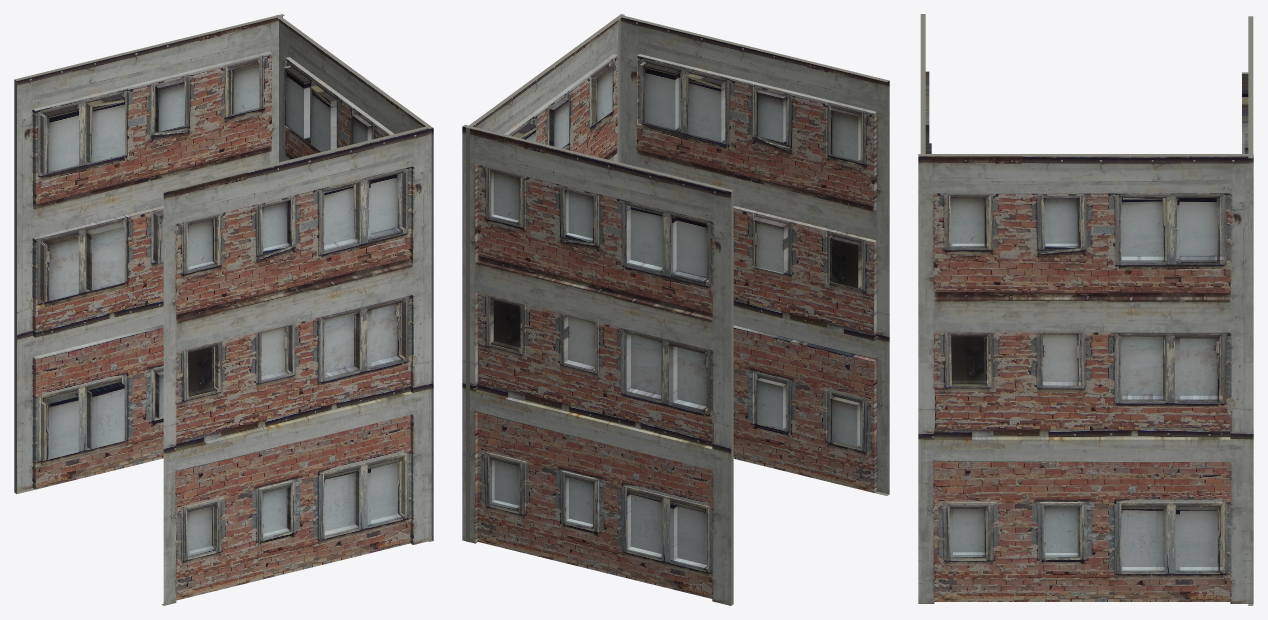
The model's file is gedung_2.fbx.
The picture shows the model from 3 angles, left to right: view 1: azimuth 30°, elevation 25°; view 2: azimuth 150°, elevation 25°; view 3: azimuth 270°, elevation 25°; orthographic projection. The views are drawn at different scales.
Parts seen in each view (by area): view 1: seamless-brick-building-front-texture-free-thumb42.002, seamless-brick-building-front-texture-free-thumb42.001, seamless-brick-building-front-texture-free-thumb42; view 2: seamless-brick-building-front-texture-free-thumb42.001, seamless-brick-building-front-texture-free-thumb42.002, seamless-brick-building-front-texture-free-thumb42; view 3: seamless-brick-building-front-texture-free-thumb42, seamless-brick-building-front-texture-free-thumb42.001, seamless-brick-building-front-texture-free-thumb42.002.
Part boxes in pixels (x1=…): seamless-brick-building-front-texture-free-thumb42.002: x1=161, y1=126, x2=431, y2=605; seamless-brick-building-front-texture-free-thumb42.001: x1=14, y1=14, x2=284, y2=493; seamless-brick-building-front-texture-free-thumb42: x1=275, y1=15, x2=433, y2=541; seamless-brick-building-front-texture-free-thumb42.001: x1=462, y1=125, x2=733, y2=605; seamless-brick-building-front-texture-free-thumb42.002: x1=618, y1=15, x2=889, y2=495; seamless-brick-building-front-texture-free-thumb42: x1=466, y1=14, x2=624, y2=542; seamless-brick-building-front-texture-free-thumb42: x1=918, y1=154, x2=1253, y2=603; seamless-brick-building-front-texture-free-thumb42.001: x1=1242, y1=16, x2=1253, y2=605; seamless-brick-building-front-texture-free-thumb42.002: x1=920, y1=14, x2=931, y2=153.
Size of the model in its own units: 69.06 by 100 by 67.93.
1 material, 1 textured.
